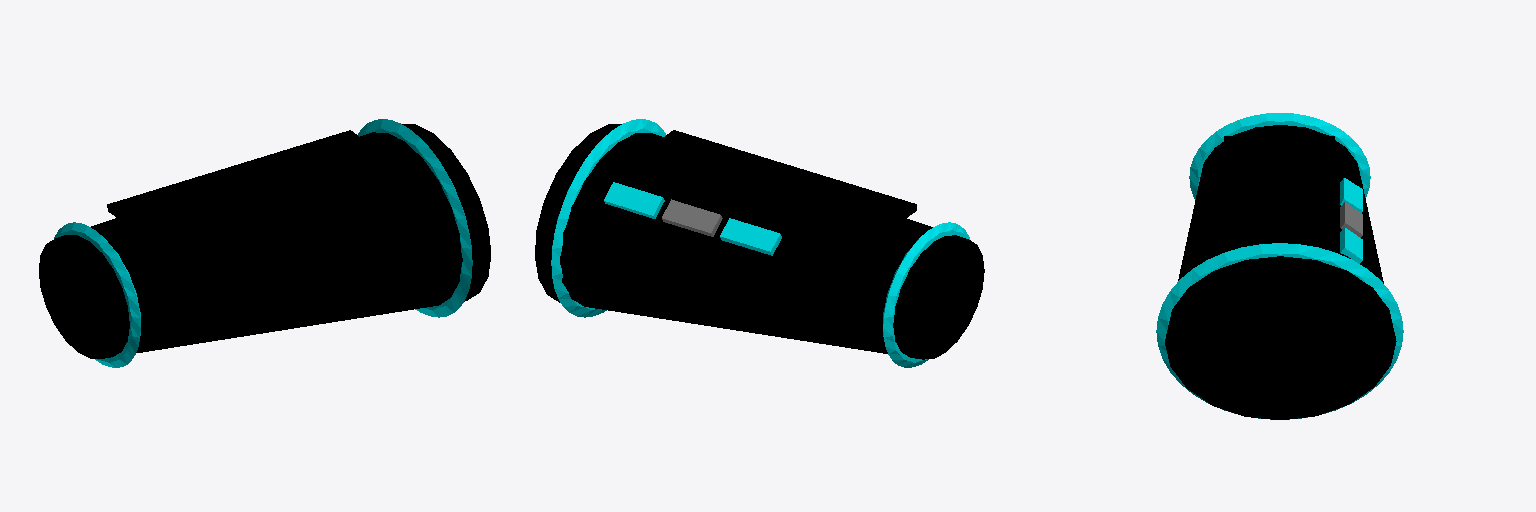
File: ArmMenu.obj
3 renders of one model, left to right at view 1: azimuth 30°, elevation 25°; view 2: azimuth 150°, elevation 25°; view 3: azimuth 270°, elevation 25°, orthographic.
Parts seen in each view (by area): view 1: ArmControlPanel3DModel:pCylinder1, ArmControlPanel3DModel:pCube1, pCylinder2, pCylinder1; view 2: ArmControlPanel3DModel:pCylinder1, ArmControlPanel3DModel:pCube1, pCylinder2, pCylinder1, pCube2, pCube1, pCube3; view 3: ArmControlPanel3DModel:pCylinder1, ArmControlPanel3DModel:pCube1, pCylinder2, pCylinder1, pCube1, pCube2.
Boxes of the visible parts, box(x1,y1,x2,y2) form: ArmControlPanel3DModel:pCylinder1: box(39, 124, 490, 358); ArmControlPanel3DModel:pCube1: box(107, 130, 405, 251); pCylinder2: box(358, 119, 472, 317); pCylinder1: box(54, 222, 140, 367); ArmControlPanel3DModel:pCylinder1: box(535, 124, 984, 359); ArmControlPanel3DModel:pCube1: box(618, 130, 916, 251); pCylinder2: box(551, 119, 665, 317); pCylinder1: box(883, 222, 969, 367); pCube2: box(662, 199, 722, 236); pCube1: box(604, 182, 664, 218); pCube3: box(721, 219, 781, 255); ArmControlPanel3DModel:pCylinder1: box(1165, 125, 1396, 419); ArmControlPanel3DModel:pCube1: box(1224, 136, 1334, 246); pCylinder2: box(1156, 243, 1403, 419); pCylinder1: box(1189, 113, 1370, 199); pCube1: box(1340, 227, 1362, 263); pCube2: box(1340, 202, 1362, 237).
Bounding box in the file's own units: 0.2025 × 0.0963 × 0.1219.